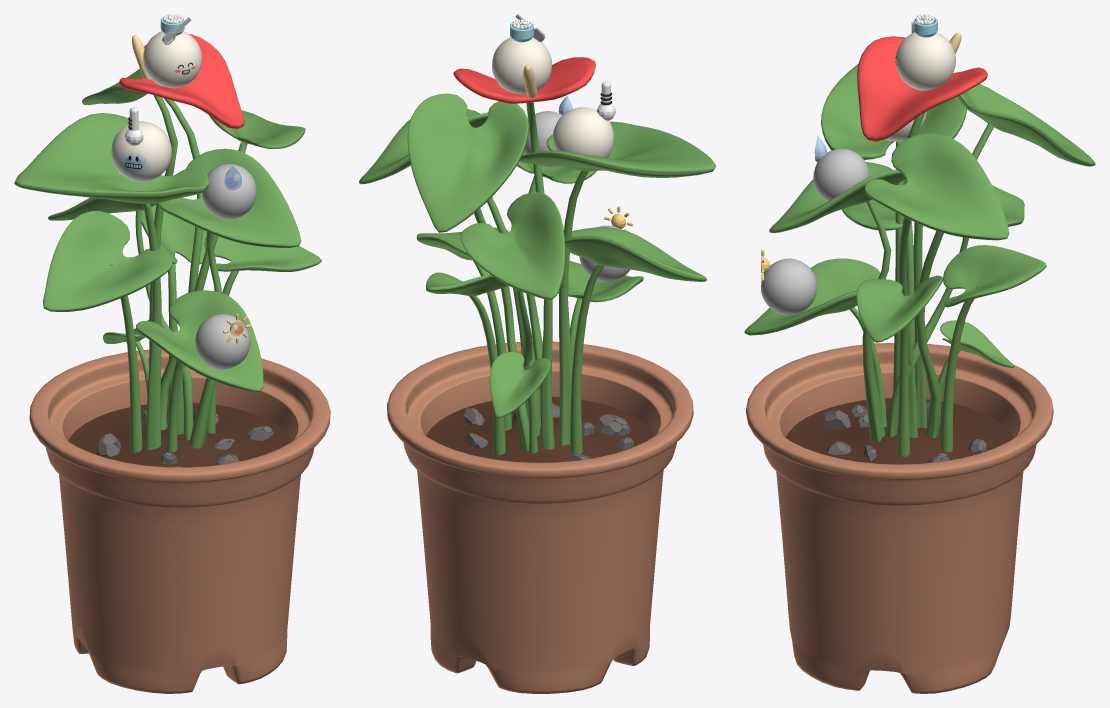
The model's file is flowerpot_high2.fbx.
3 views of the same model, side by side, from view 1: azimuth 30°, elevation 25°; view 2: azimuth 150°, elevation 25°; view 3: azimuth 270°, elevation 25° (orthographic). The views are drawn at different scales.
Parts seen in each view (by area): view 1: pot, stem1, stem3, stem2, floor, stem6, main_flower, stem4, polySurface233, stem7, polySurface238, stem9 (+7 smaller); view 2: pot, stem9, stem1, stem5, floor, stem3, main_flower, stem10, stem7, polySurface238, polySurface233, stem8 (+7 smaller); view 3: pot, stem7, main_flower, floor, stem9, stem8, stem1, stem4, stem2, stem6, polySurface238, polySurface216 (+4 smaller).
Boxes of the visible parts, x1=… form: pot: x1=29, y1=349, x2=330, y2=693; stem1: x1=14, y1=113, x2=209, y2=450; stem3: x1=43, y1=211, x2=172, y2=452; stem2: x1=158, y1=148, x2=301, y2=448; floor: x1=68, y1=402, x2=291, y2=467; stem6: x1=136, y1=290, x2=263, y2=452; main_flower: x1=119, y1=34, x2=244, y2=437; stem4: x1=204, y1=236, x2=321, y2=433; polySurface233: x1=111, y1=121, x2=171, y2=182; stem7: x1=177, y1=110, x2=305, y2=434; polySurface238: x1=143, y1=31, x2=201, y2=88; stem9: x1=82, y1=69, x2=203, y2=430; pot: x1=387, y1=341, x2=693, y2=693; stem9: x1=407, y1=93, x2=529, y2=451; stem1: x1=519, y1=121, x2=715, y2=445; stem5: x1=460, y1=192, x2=565, y2=428; floor: x1=426, y1=396, x2=653, y2=462; stem3: x1=564, y1=227, x2=706, y2=453; main_flower: x1=453, y1=57, x2=595, y2=449; stem10: x1=489, y1=352, x2=550, y2=453; stem7: x1=359, y1=109, x2=539, y2=436; polySurface238: x1=492, y1=37, x2=551, y2=94; polySurface233: x1=552, y1=107, x2=614, y2=157; stem8: x1=426, y1=272, x2=507, y2=455; pot: x1=746, y1=343, x2=1053, y2=693; stem7: x1=864, y1=133, x2=1009, y2=437; main_flower: x1=857, y1=32, x2=987, y2=428; floor: x1=785, y1=398, x2=1013, y2=464; stem9: x1=915, y1=84, x2=1095, y2=438; stem8: x1=940, y1=245, x2=1046, y2=451; stem1: x1=821, y1=64, x2=966, y2=423; stem4: x1=856, y1=275, x2=942, y2=456; stem2: x1=769, y1=162, x2=906, y2=441; stem6: x1=744, y1=258, x2=886, y2=427; polySurface238: x1=895, y1=32, x2=955, y2=90; polySurface216: x1=761, y1=258, x2=817, y2=315.
Bounding box in the file's own units: 3.16 × 6.32 × 3.15.
